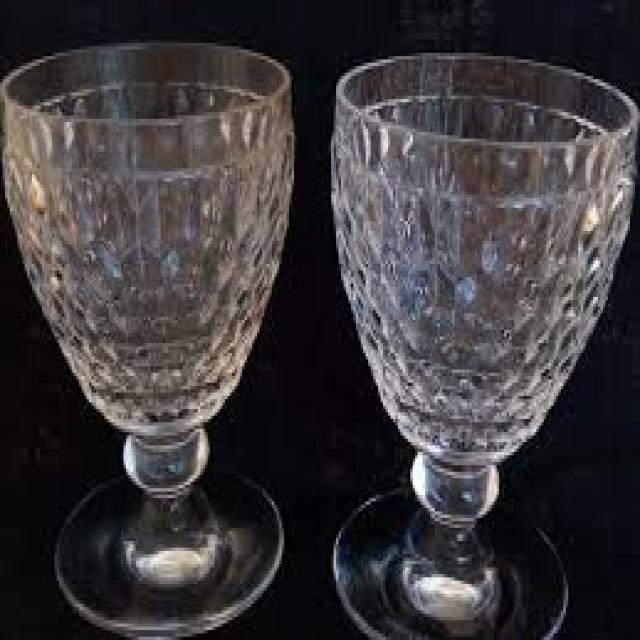glass: (324, 50, 638, 637), (0, 36, 294, 637)
